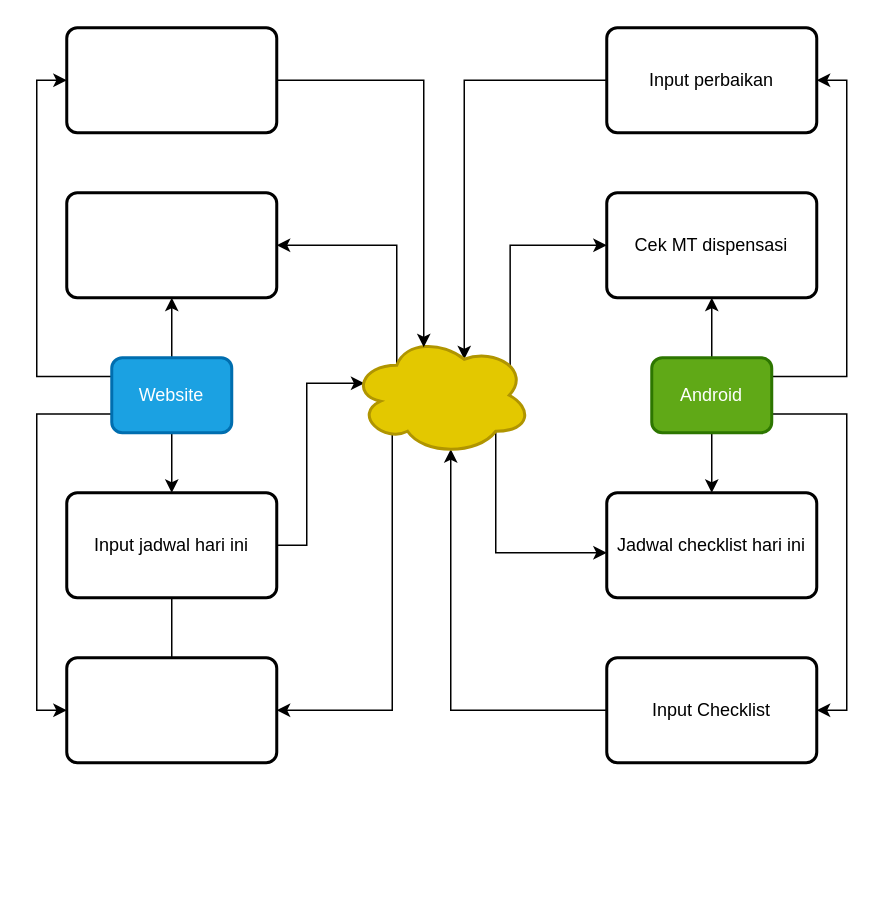
This 885x912 diagram has some shape labels left out. Each missing label, with the centre of its shape:
Approving: (171,80)
Checklist harian: (171,710)
database: (441,394)
Riwayat checklist (sebelum dan sesudah update): (171,244)
